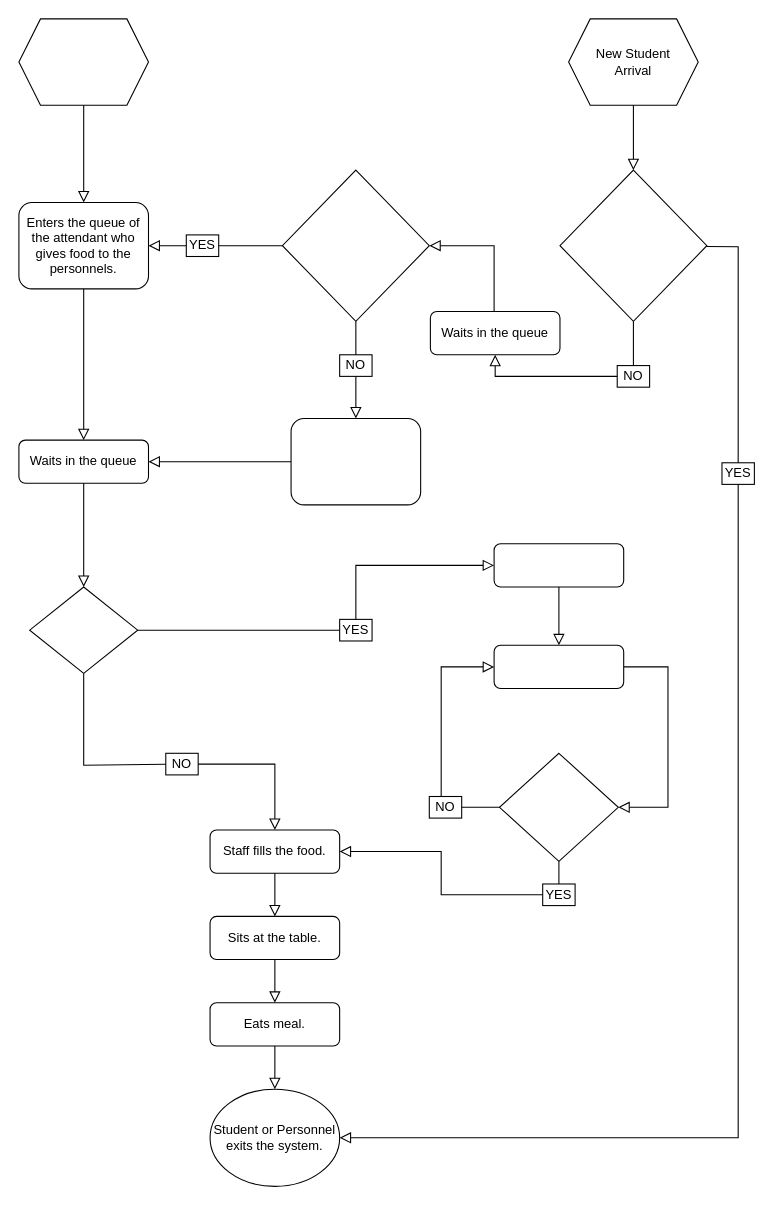
Image size: 773x1205. Some labels were removed from this diagram. Here are the shapes that lost their labels. From the top down, the centre of each, then its label:
At (83,61): "New Personnel Arrival".
At (355,245): "Is the student queue too long which inside the refectory building?".
At (633,245): "Is the student queue too long which outside the refectory building?".
At (355,461): "Enters the queue of the attendant who gives food to the students.".
At (558,565): "Meal filling stops.".
At (83,629): "Are the tables full?".
At (558,666): "Continue waits in the queue.".
At (558,806): "Are there any vacant tables?".
